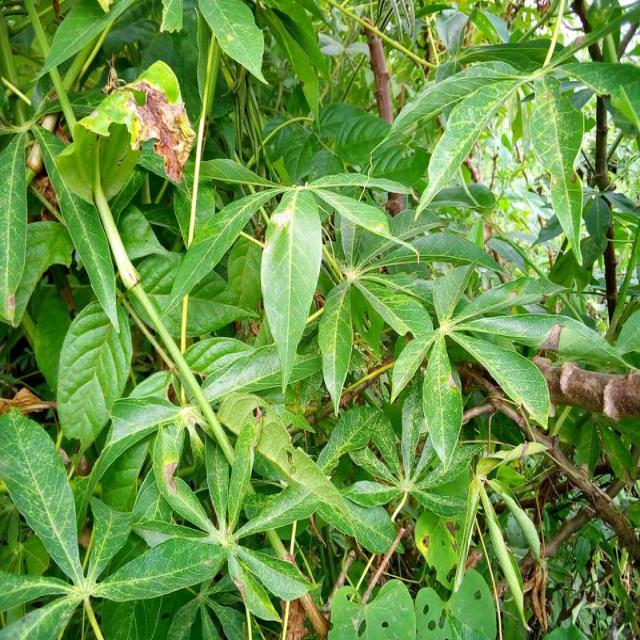cassava leaf: (1, 1, 638, 637), (260, 185, 322, 394)
